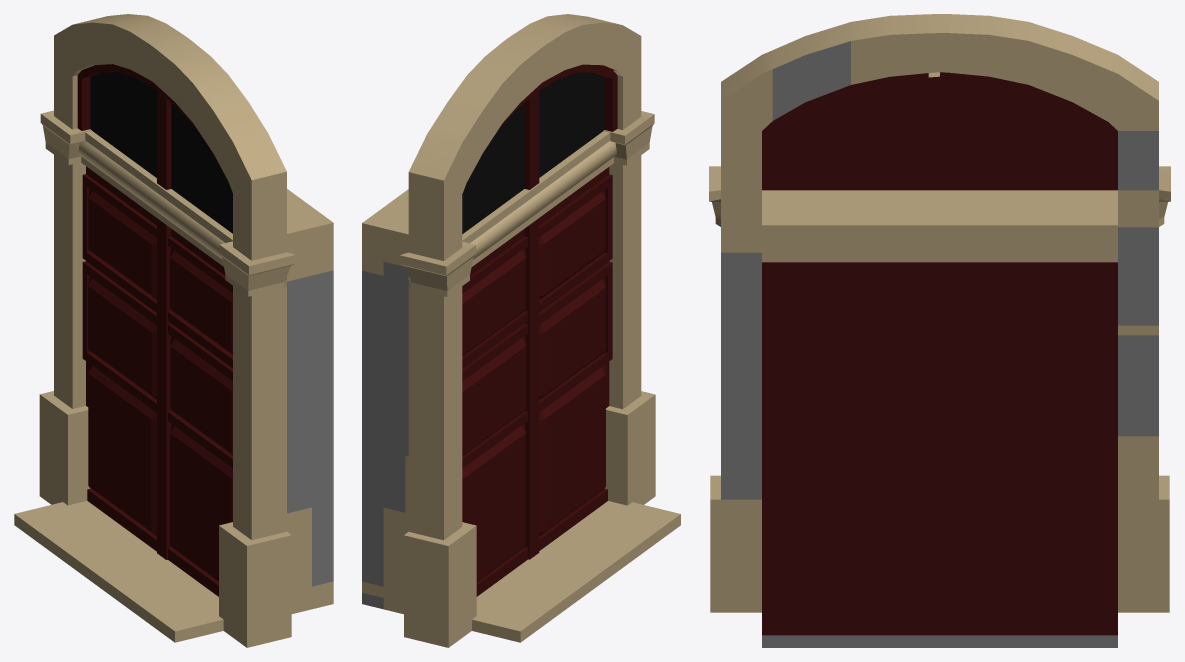
File: DoubleDoor2.fbx
3 renders of one model, left to right at view 1: azimuth 30°, elevation 25°; view 2: azimuth 150°, elevation 25°; view 3: azimuth 270°, elevation 25°, orthographic. The views are drawn at different scales.
Visible parts, largest first — view 1: MainDoubleDoor1; view 2: MainDoubleDoor1; view 3: MainDoubleDoor1.
Part boxes in pixels (x1=…): MainDoubleDoor1: x1=14, y1=14, x2=333, y2=647; MainDoubleDoor1: x1=362, y1=14, x2=680, y2=647; MainDoubleDoor1: x1=709, y1=14, x2=1170, y2=647.
Size of the model in its own units: 35.92 by 113 by 81.76.
